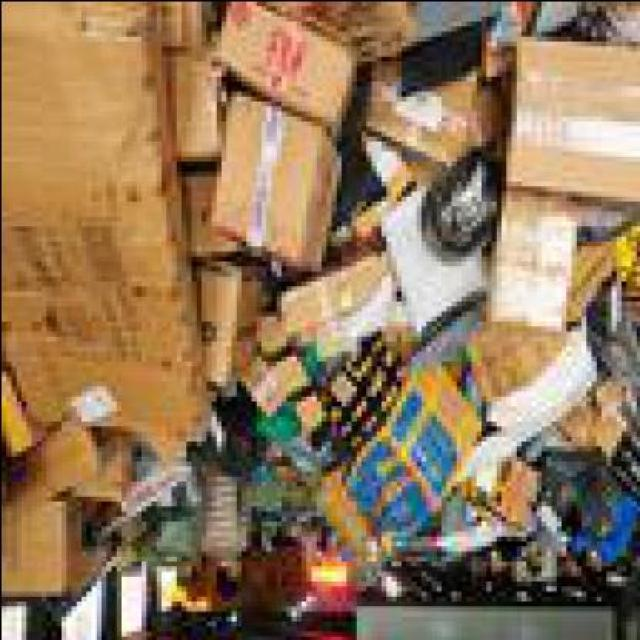cardboard: (5, 4, 220, 444), (336, 65, 496, 380), (320, 355, 485, 560), (504, 40, 638, 232), (216, 91, 346, 275), (216, 5, 366, 140), (286, 331, 411, 475), (471, 311, 600, 446), (371, 55, 502, 171), (484, 5, 638, 86), (505, 196, 580, 336), (200, 266, 275, 396), (280, 260, 395, 340), (275, 6, 411, 71), (6, 500, 91, 600), (5, 420, 100, 509), (171, 51, 231, 171), (396, 35, 506, 100), (196, 404, 276, 484), (576, 220, 638, 317), (240, 340, 315, 415), (560, 391, 635, 466), (466, 475, 551, 540), (191, 175, 251, 260), (369, 136, 440, 207), (6, 366, 51, 471), (115, 520, 200, 569), (400, 5, 505, 44), (80, 436, 135, 506), (466, 440, 526, 500), (167, 5, 216, 60), (311, 564, 375, 596), (255, 400, 300, 445), (265, 316, 300, 364), (295, 400, 331, 440), (160, 486, 205, 511)
